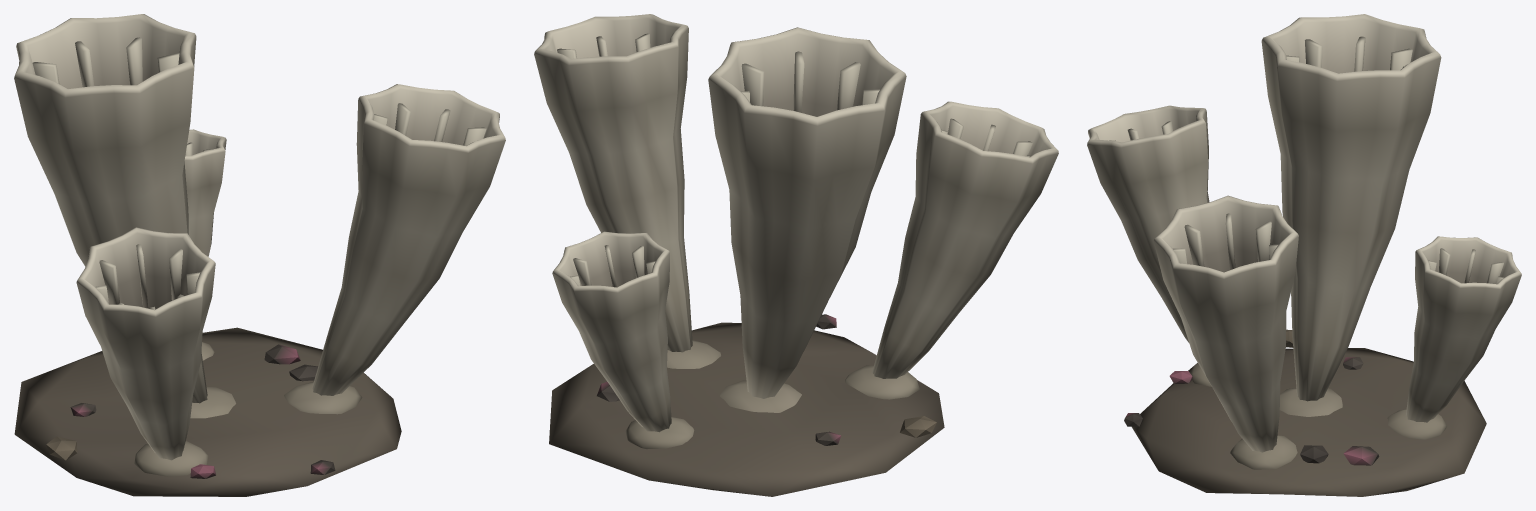
Rendered from CambroctoconusKyrgyzstanicus.fbx.
3 renders of one model, left to right at view 1: azimuth 30°, elevation 25°; view 2: azimuth 150°, elevation 25°; view 3: azimuth 270°, elevation 25°, orthographic. The views are drawn at different scales.
Visible parts, largest first — view 1: CambroctoconusKyrgyzstanicus; view 2: CambroctoconusKyrgyzstanicus; view 3: CambroctoconusKyrgyzstanicus.
Boxes of the visible parts, x1,y1,x2,y2 form: CambroctoconusKyrgyzstanicus: [14, 14, 505, 496]; CambroctoconusKyrgyzstanicus: [534, 14, 1058, 496]; CambroctoconusKyrgyzstanicus: [1087, 14, 1521, 496].
Bounding box in the file's own units: 1.36 × 1.12 × 1.22.
